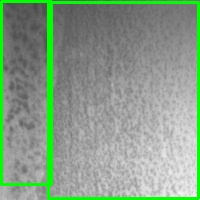pitted_surface: (48, 2, 198, 198), (1, 1, 51, 184)
